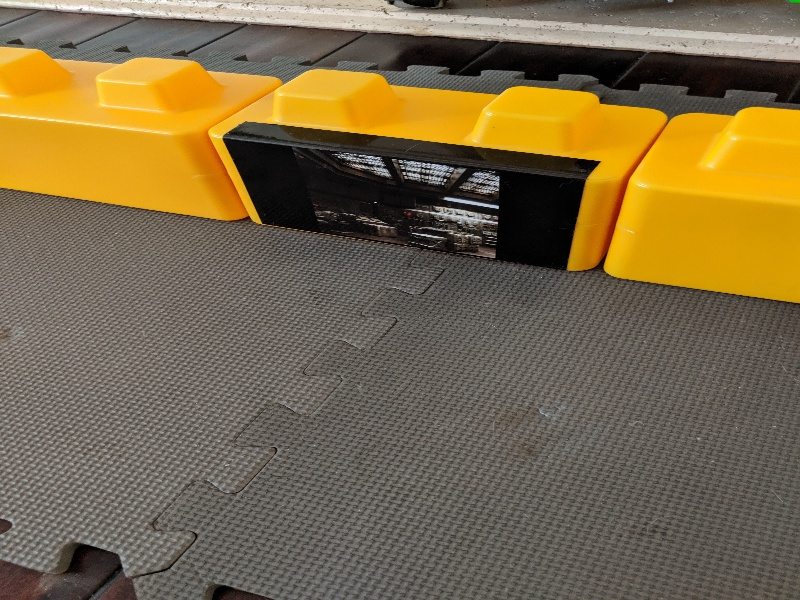Skystone: (216, 116, 603, 272)
